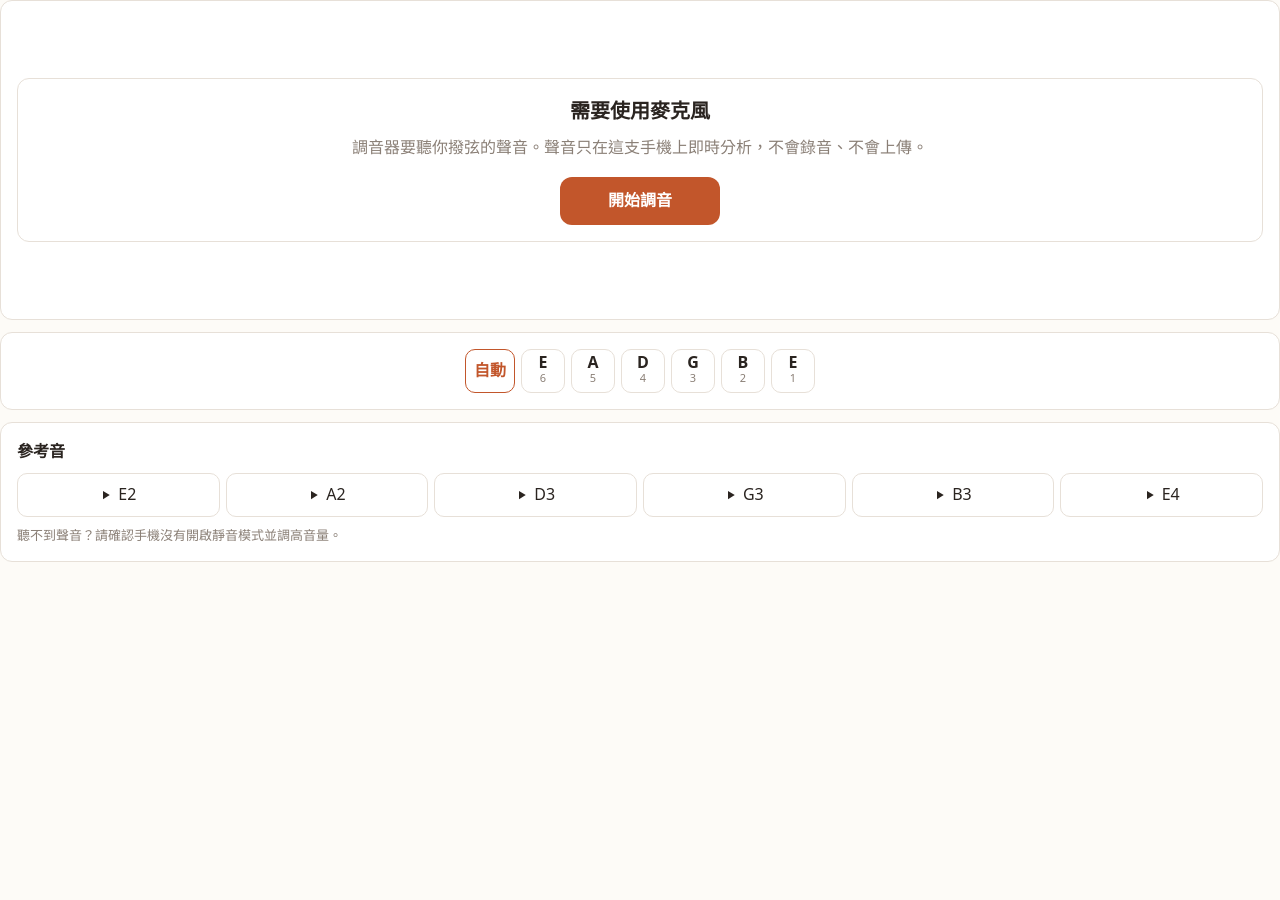
TunerPanel phases (TUN-50–59) › paused shows "tap to continue" and restarts on click
This screenshot has width=1280, height=900.
Click the button with test id "tuner-start": point(640, 201) x1=560 y1=177 x2=720 y2=225
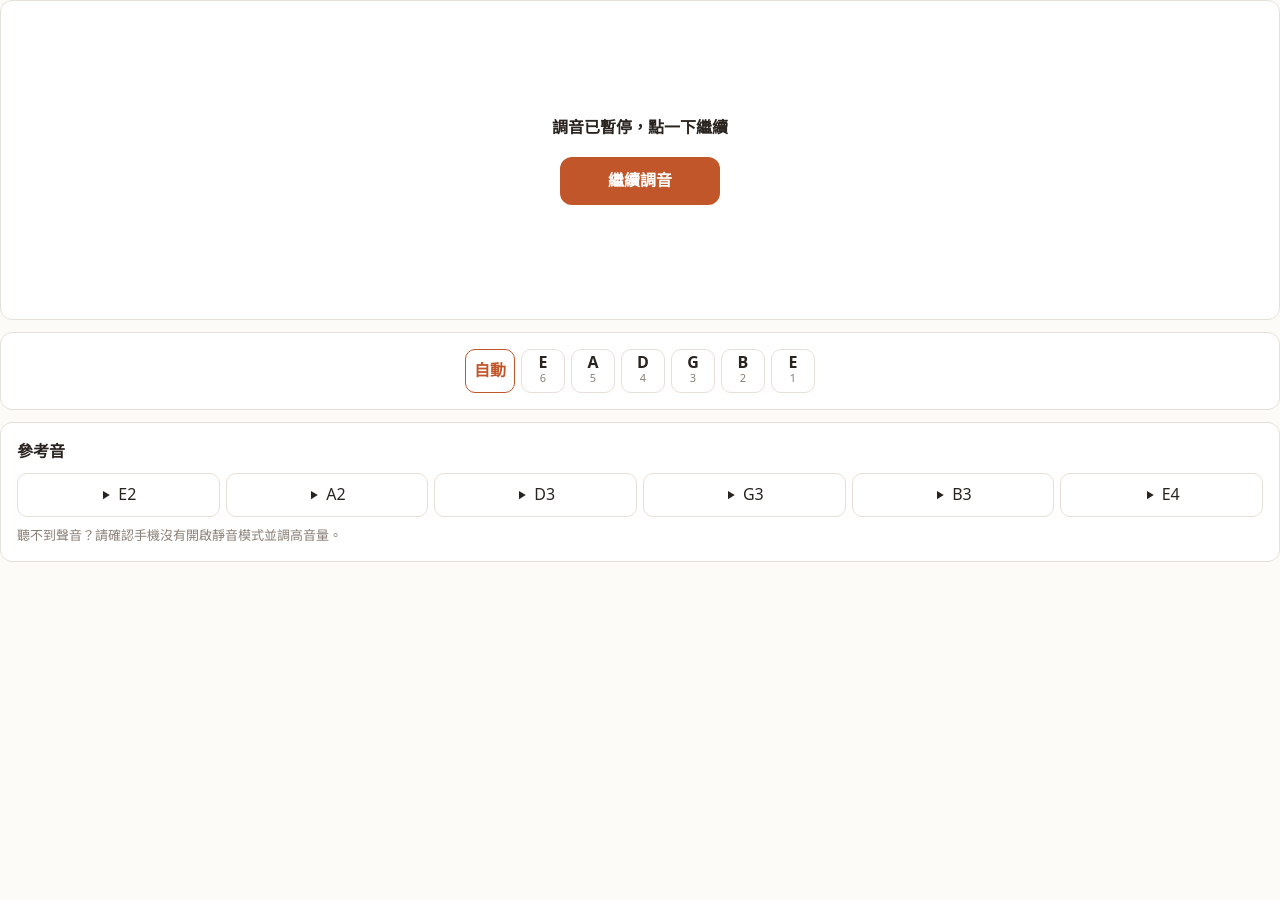
Result: the text "調音已暫停，點一下繼續" is shown at x1=552 y1=116 x2=728 y2=138
Click the button with test id "tuner-retry": point(640, 181) x1=560 y1=157 x2=720 y2=205
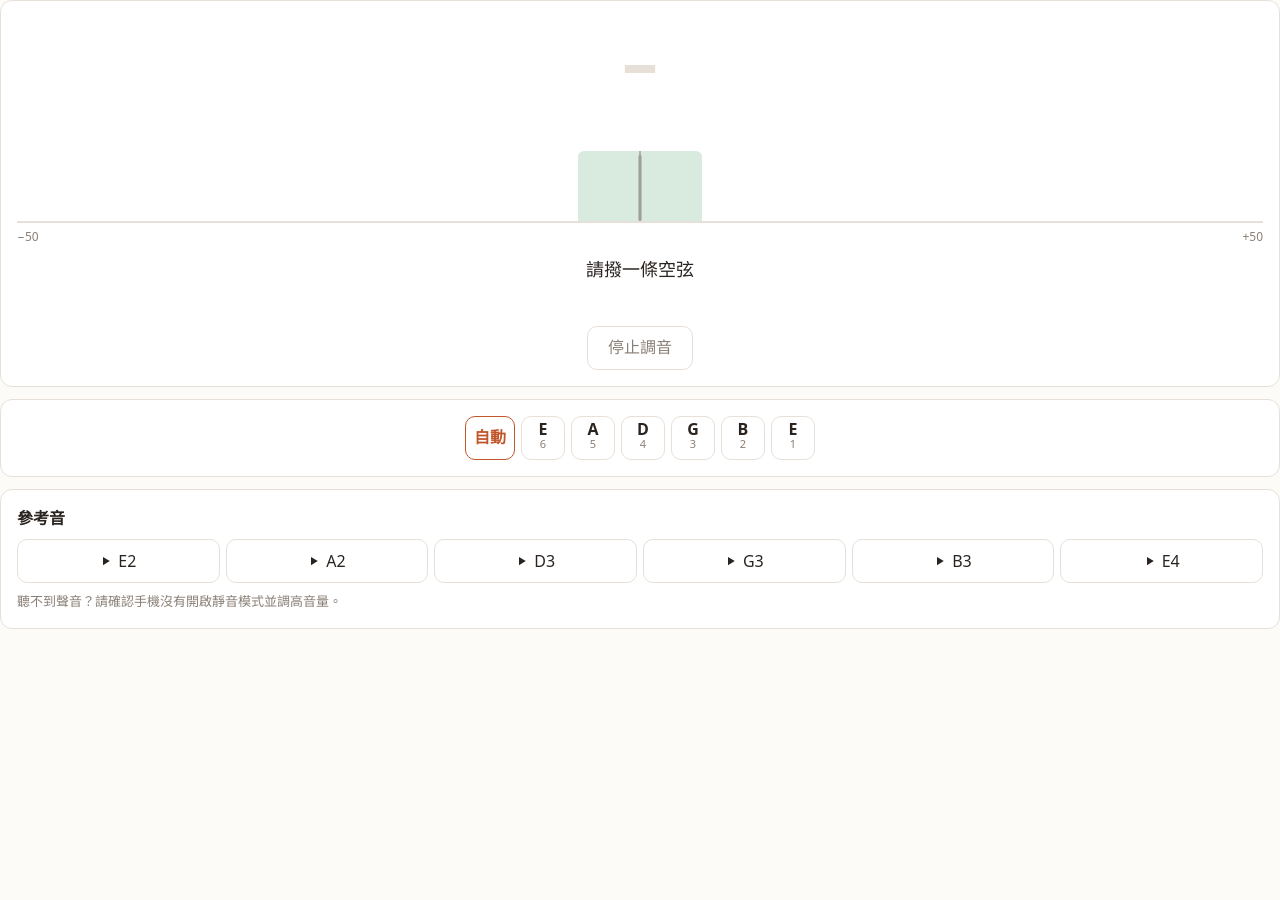
Result: the element with test id "tuner-meter" is shown at x1=17 y1=17 x2=1263 y2=310
